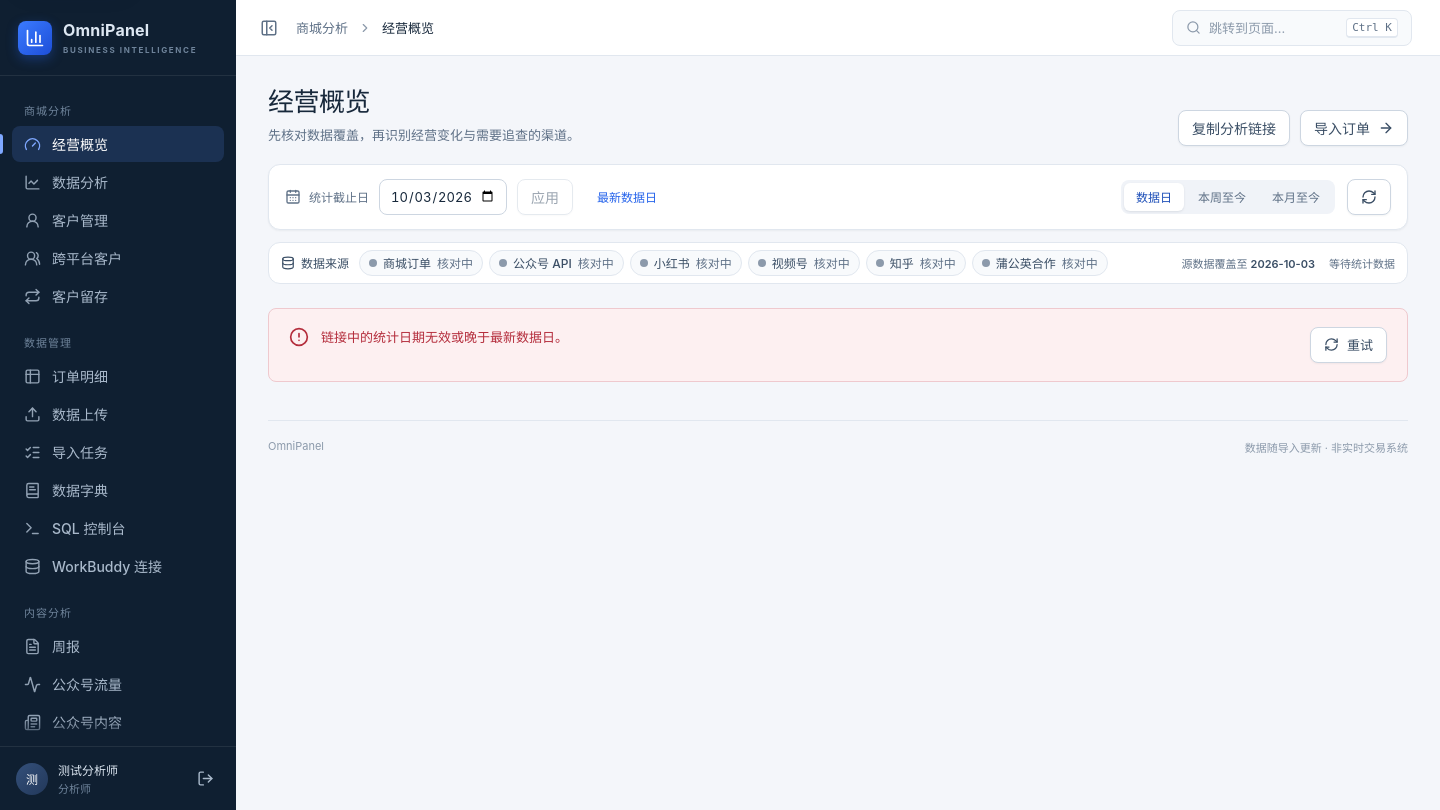
Scenario: working console › does not send KPI requests for an invalid shared date
expect the text "链接中的统计日期无效或晚于最新数据日。" is shown: met, box [321,329,568,345]
Step 1. Click the button "重试" → [1348, 345], box [1310,327,1387,363]
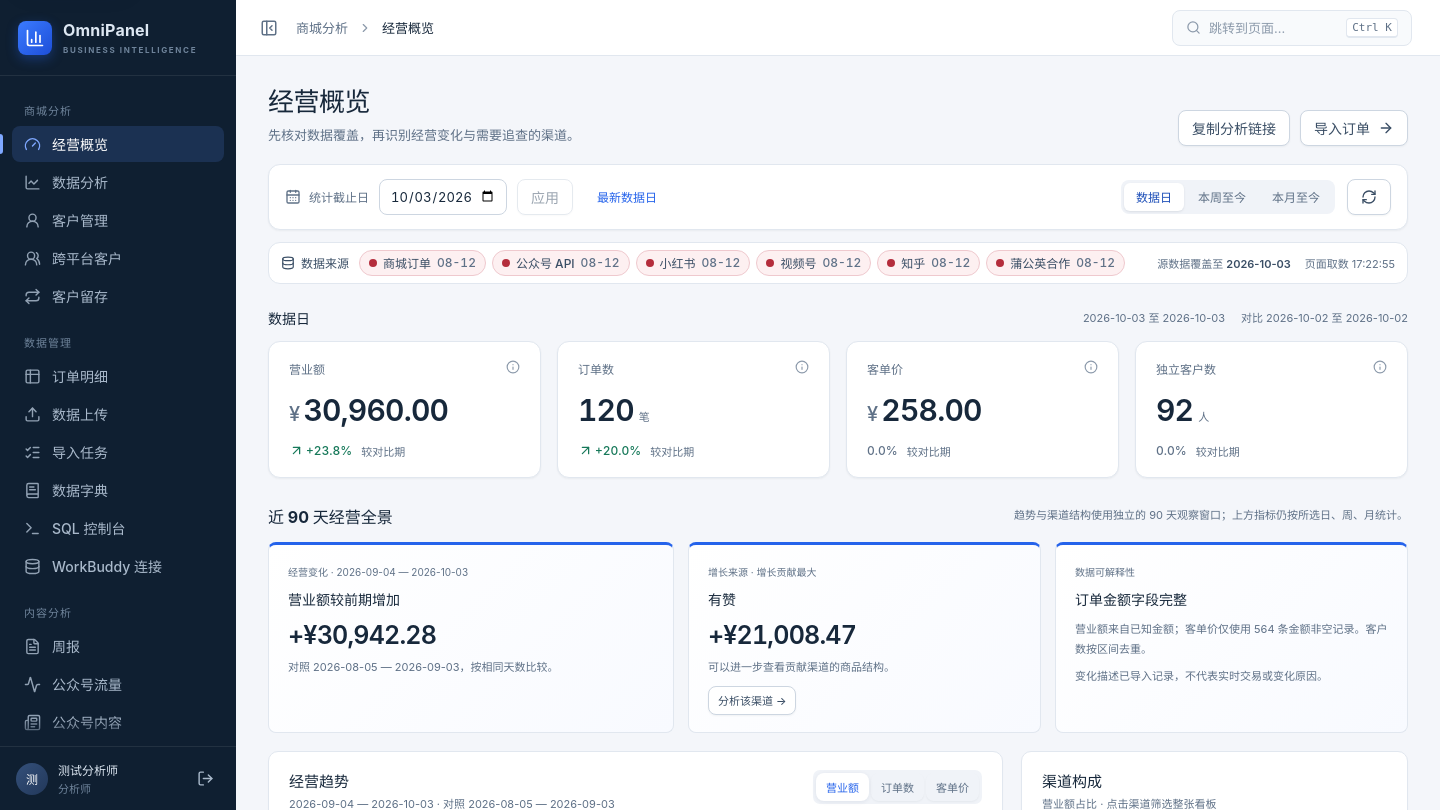
expect the text "30,960.00" is shown: met, box [303,392,448,428]
